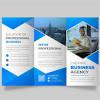paper: (2, 17, 99, 86)
